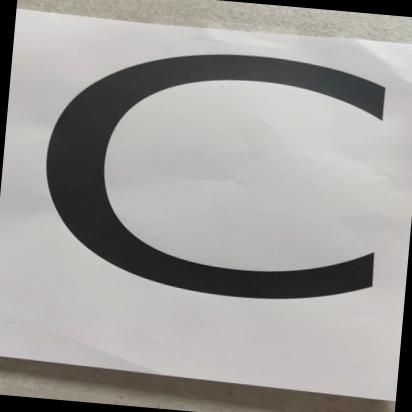seat: (0, 11, 412, 403)
